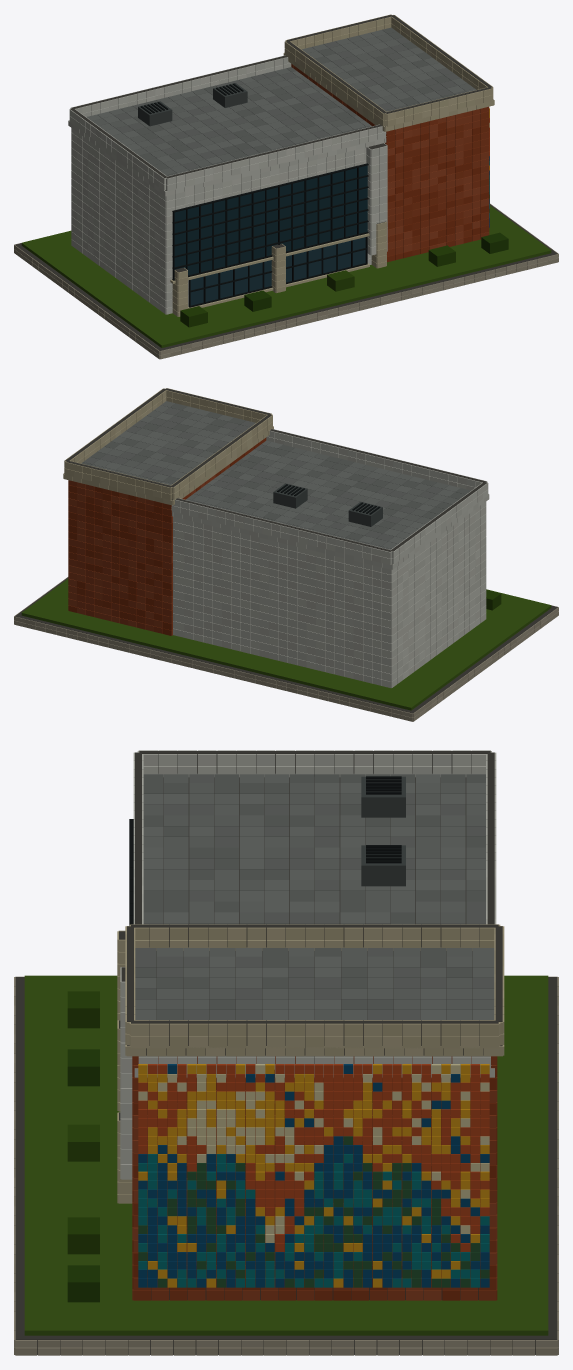
Rendered from SM_Mapa_061.fbx.
3 views of the same model, one above another, from view 1: azimuth 30°, elevation 25°; view 2: azimuth 150°, elevation 25°; view 3: azimuth 270°, elevation 25° (orthographic). The views are drawn at different scales.
Parts seen in each view (by area): view 1: SM_Mapa_061; view 2: SM_Mapa_061; view 3: SM_Mapa_061.
Part boxes in pixels (box(x1,y1,x2,y2)): SM_Mapa_061: box(14, 14, 558, 359); SM_Mapa_061: box(14, 388, 558, 721); SM_Mapa_061: box(14, 750, 558, 1355).
Size of the model in its own units: 24 by 15.19 by 9.23.
